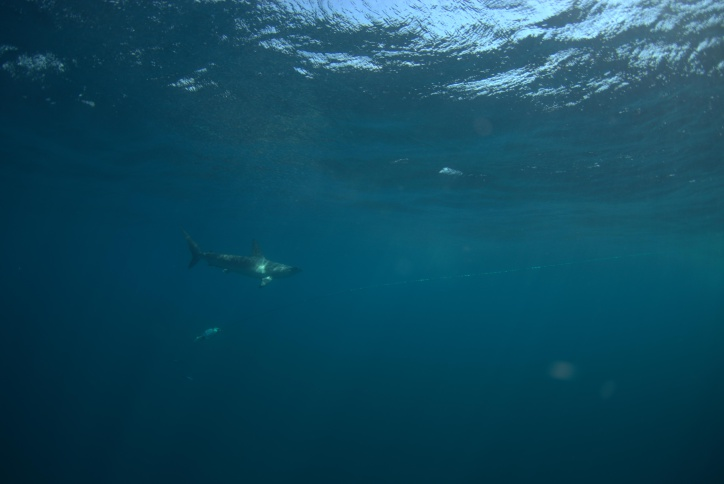Hammer: (176, 229, 309, 304)
